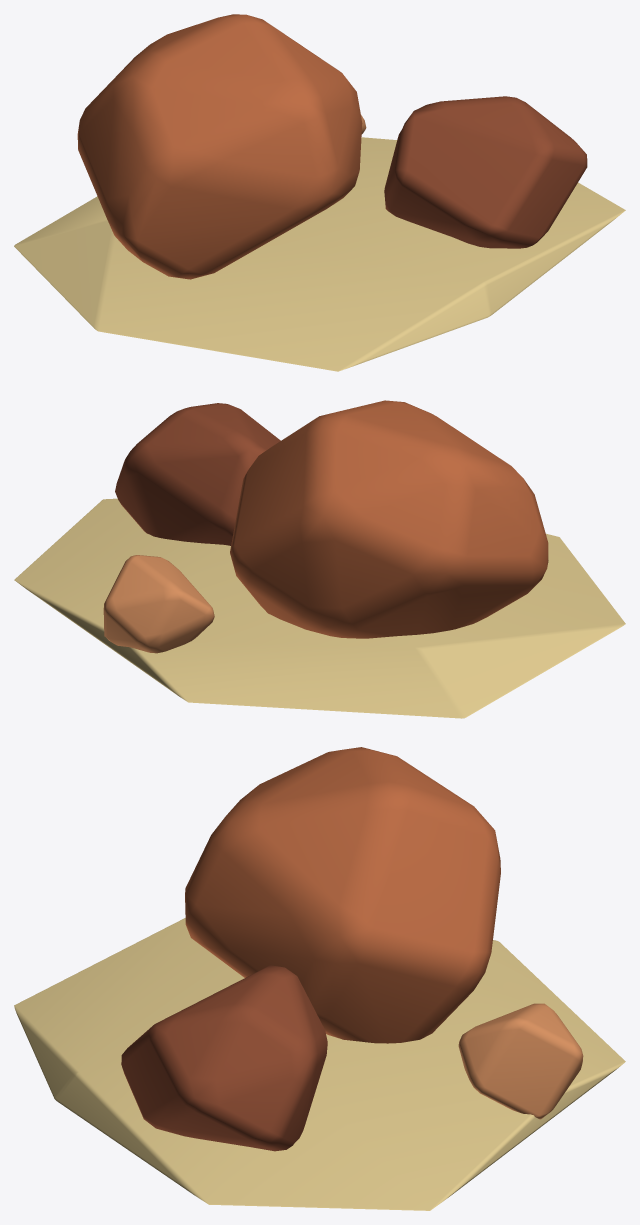
File: rocher_desert_3.glb
3 views of the same model, one above another, from view 1: azimuth 30°, elevation 25°; view 2: azimuth 150°, elevation 25°; view 3: azimuth 270°, elevation 25° (orthographic). The views are drawn at different scales.
Parts seen in each view (by area): view 1: roche_sable.002, roche_gres.006, roche_gres_sombre.006; view 2: roche_gres.006, roche_sable.002, roche_gres_sombre.006, roche_gres_clair.006; view 3: roche_sable.002, roche_gres.006, roche_gres_sombre.006, roche_gres_clair.006.
Part boxes in pixels (x1,y1,x2,y2): roche_sable.002: (14, 137, 625, 371); roche_gres.006: (77, 14, 362, 279); roche_gres_sombre.006: (384, 96, 587, 248); roche_gres.006: (230, 400, 548, 638); roche_sable.002: (14, 498, 625, 718); roche_gres_sombre.006: (115, 403, 280, 545); roche_gres_clair.006: (103, 555, 214, 653); roche_sable.002: (14, 918, 625, 1210); roche_gres.006: (185, 747, 500, 1043); roche_gres_sombre.006: (121, 965, 327, 1151); roche_gres_clair.006: (458, 1003, 583, 1119).
Bounding box in the file's own units: 0.915 × 0.3679 × 0.8004.
